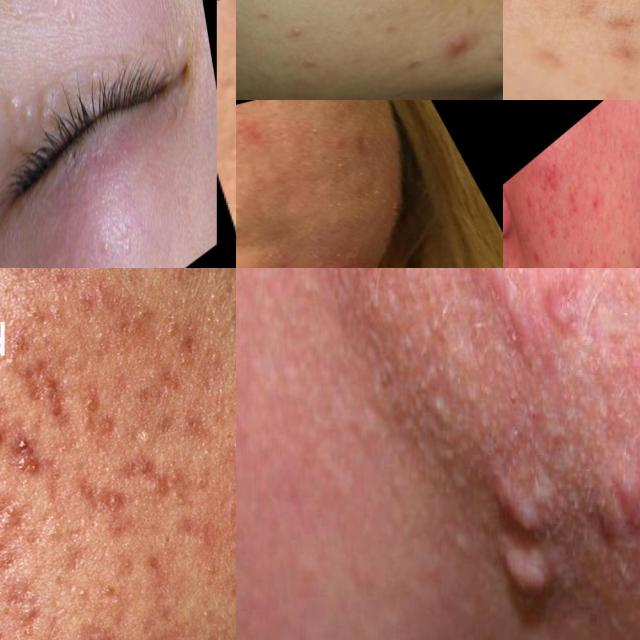acne_scars: (20, 355, 94, 412)
comedone: (219, 0, 236, 41)
cystic: (310, 253, 367, 268)
keloid: (489, 448, 565, 624), (487, 268, 560, 386), (595, 435, 640, 559)
milium: (32, 0, 90, 63), (0, 70, 41, 143), (160, 0, 199, 71)
papule: (427, 13, 501, 76), (524, 186, 534, 218), (533, 249, 542, 268)
pustule: (590, 189, 600, 217), (600, 249, 612, 268), (546, 165, 553, 185)
sebo-crystan-conglo: (5, 429, 44, 486), (81, 630, 120, 640), (565, 248, 581, 268)
syringoma: (31, 61, 73, 130), (81, 43, 111, 100), (4, 118, 32, 175)
